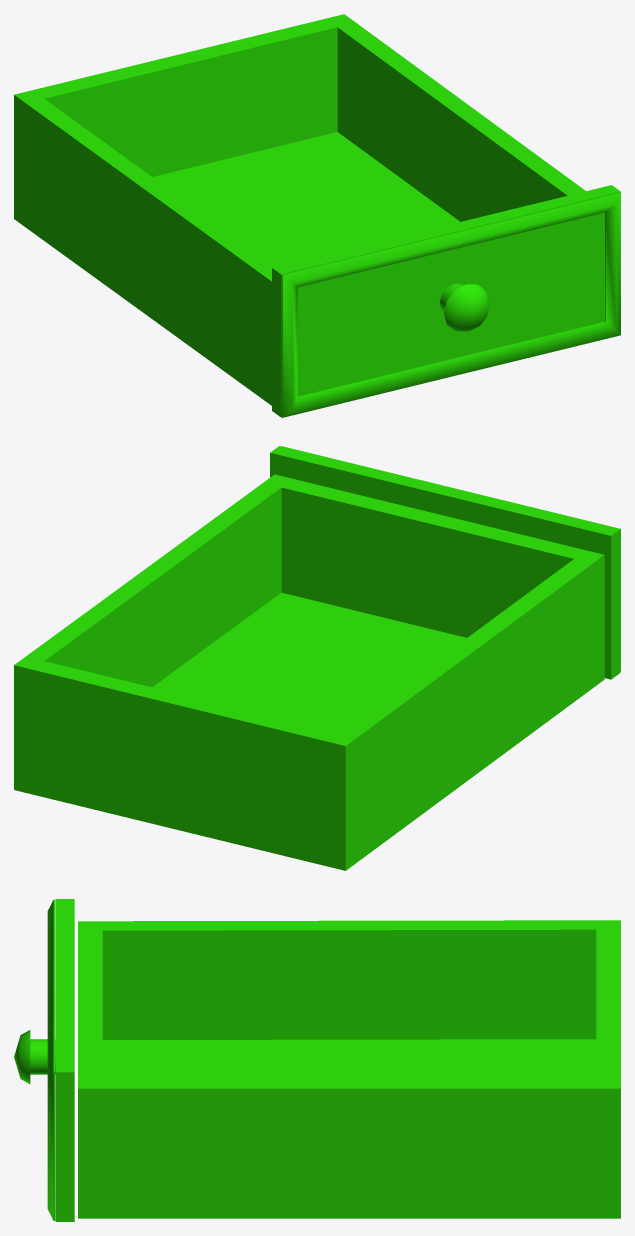
The model's file is Cupboard_13_Drawer.fbx.
The picture shows the model from 3 angles, top to bottom: view 1: azimuth 30°, elevation 25°; view 2: azimuth 150°, elevation 25°; view 3: azimuth 270°, elevation 25°; orthographic projection. The views are drawn at different scales.
Parts seen in each view (by area): view 1: Cupboard_13_Drawer; view 2: Cupboard_13_Drawer; view 3: Cupboard_13_Drawer.
Boxes of the visible parts, x1,y1,x2,y2 form: Cupboard_13_Drawer: (14,14,620,417); Cupboard_13_Drawer: (14,446,620,870); Cupboard_13_Drawer: (14,899,620,1221).
Size of the model in its own units: 28.72 by 11.56 by 42.52.
